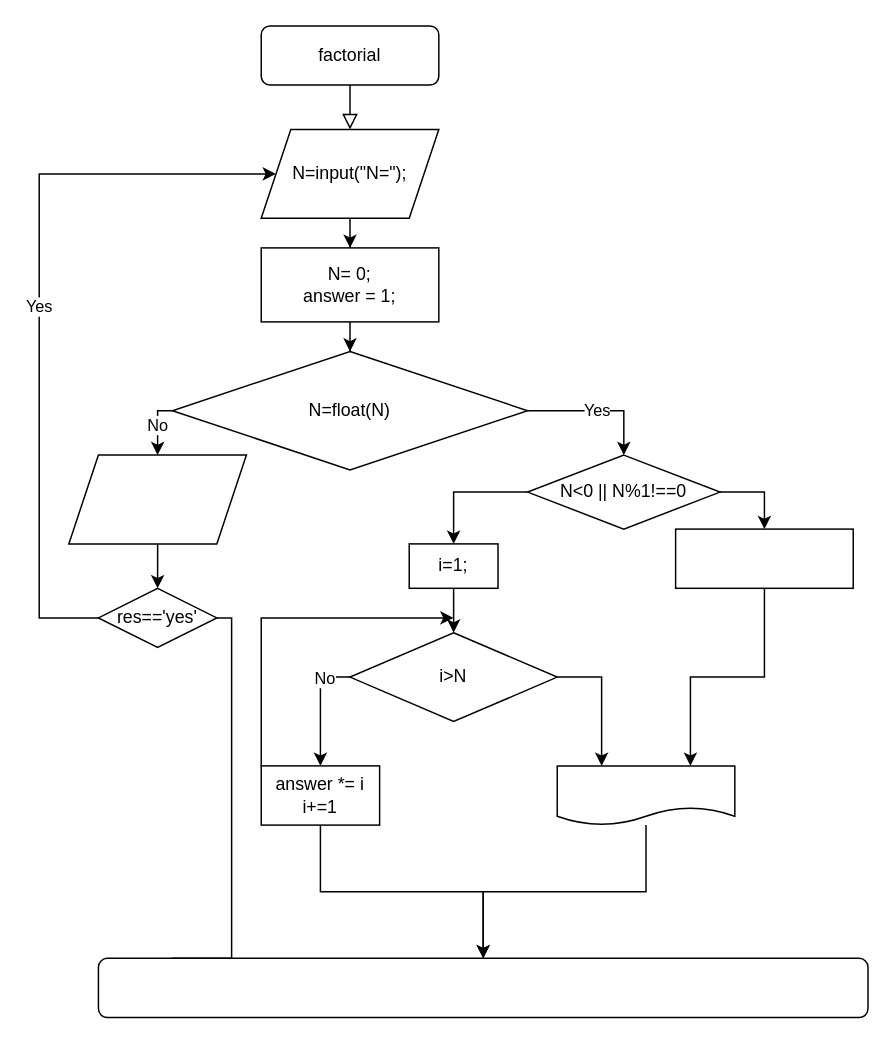
The diagram is 894 pixels wide and 1043 high, and some of its shapes have lost their labels. Here are the shapes that lost their labels. From the top down, the centre of each, then its label:
point 156,499: res=input("error. Try again?");
point 763,558: answer=gamma(N+1);
point 645,794: print(answer);
point 482,987: end
